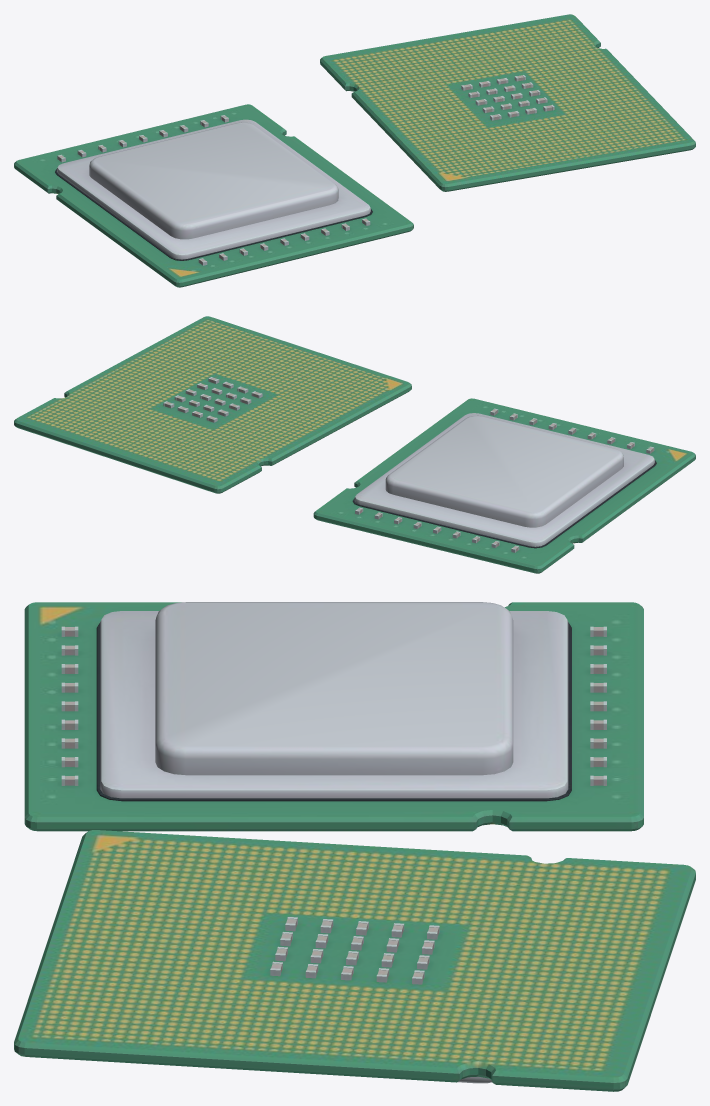
Rendered from cpu.glb.
3 views of the same model, one above another, from view 1: azimuth 30°, elevation 25°; view 2: azimuth 150°, elevation 25°; view 3: azimuth 270°, elevation 25° (orthographic). The views are drawn at different scales.
Parts seen in each view (by area): view 1: cpu_body; view 2: cpu_body; view 3: cpu_body.
Part boxes in pixels (x1,y1,x2,y2): cpu_body: (14, 14, 695, 287); cpu_body: (14, 316, 695, 573); cpu_body: (14, 602, 695, 1091).
Bounding box in the file's own units: 0.0873 × 0.00444 × 0.0495.
Materials: 1 (1 with a texture image).
